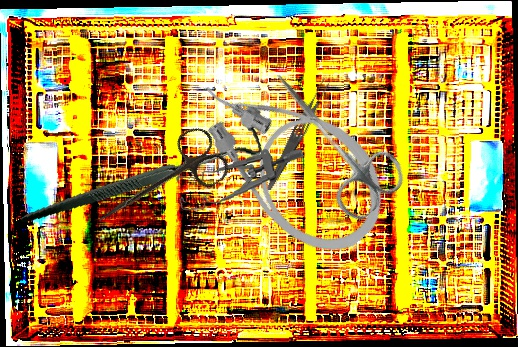Cannula: (175, 36, 409, 276)
Dressing Forceps: (263, 76, 334, 194)
Hook Surgical: (19, 85, 267, 261)
Iris Scissors: (247, 52, 412, 227), (83, 121, 235, 249)
Speculum: (174, 146, 307, 212)
